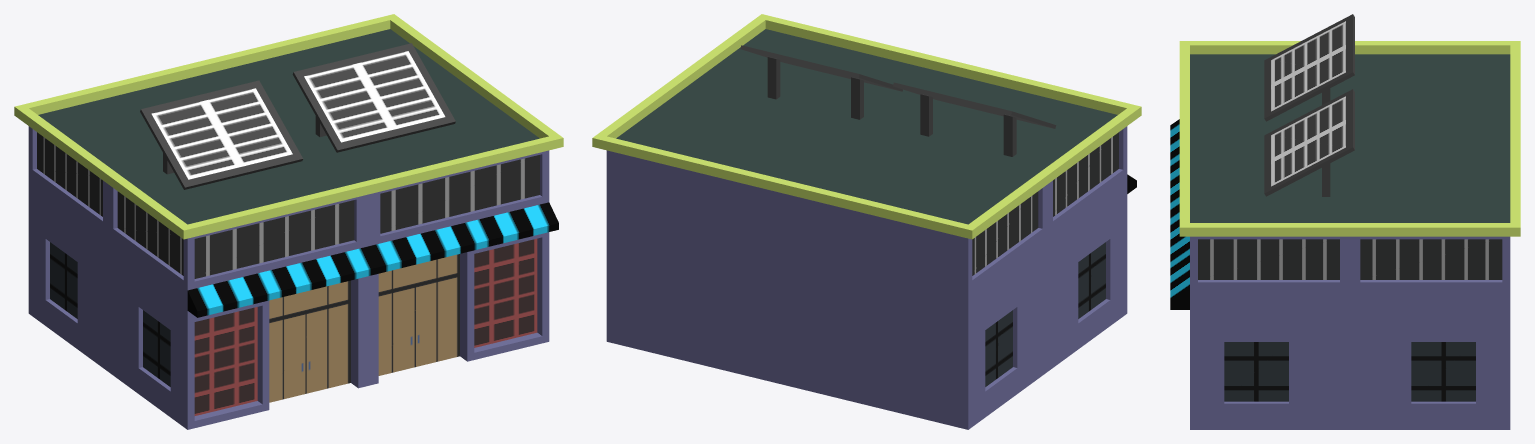
The model's file is building11c.FBX.
3 views of the same model, side by side, from view 1: azimuth 30°, elevation 25°; view 2: azimuth 150°, elevation 25°; view 3: azimuth 270°, elevation 25° (orthographic).
Parts seen in each view (by area): view 1: building11c; view 2: building11c; view 3: building11c.
Part boxes in pixels (x1=…): building11c: x1=14, y1=14, x2=563, y2=429; building11c: x1=592, y1=14, x2=1141, y2=429; building11c: x1=1170, y1=14, x2=1520, y2=429.
Size of the model in its own units: 15.84 by 10.09 by 12.57.
